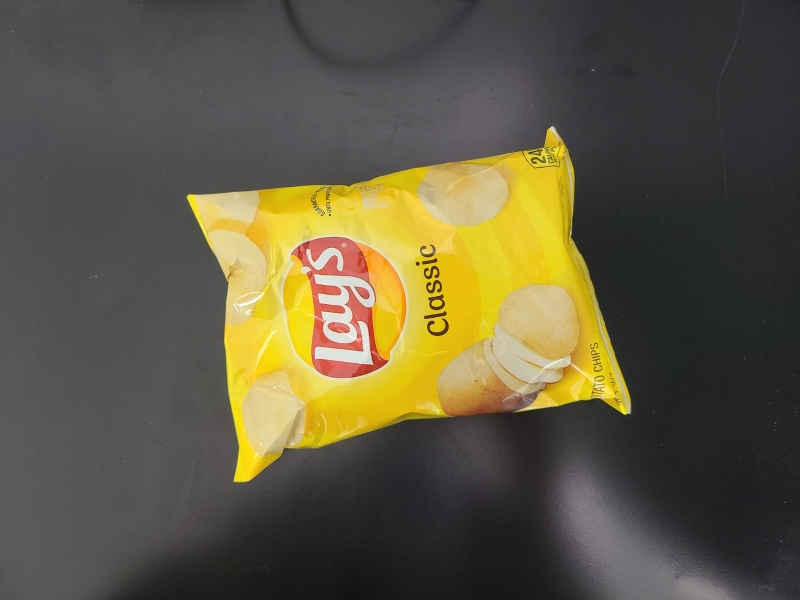lays: (185, 125, 640, 484)
